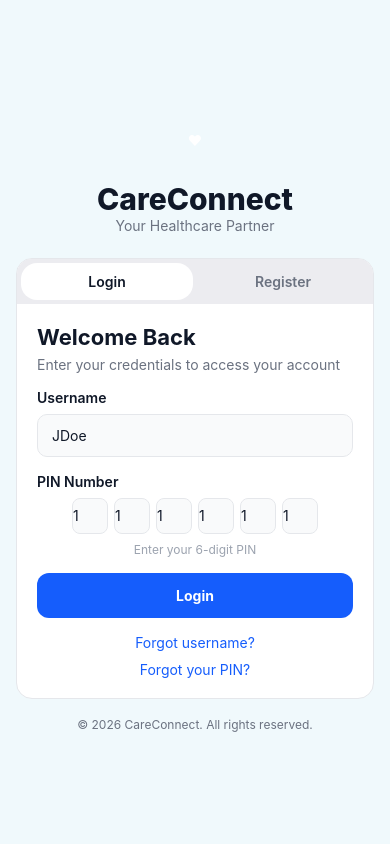
it: Index (Login Screen) › shows error if PIN is incomplete
Clear the field named "PIN digit 1": (90, 516) [72,498,108,534]
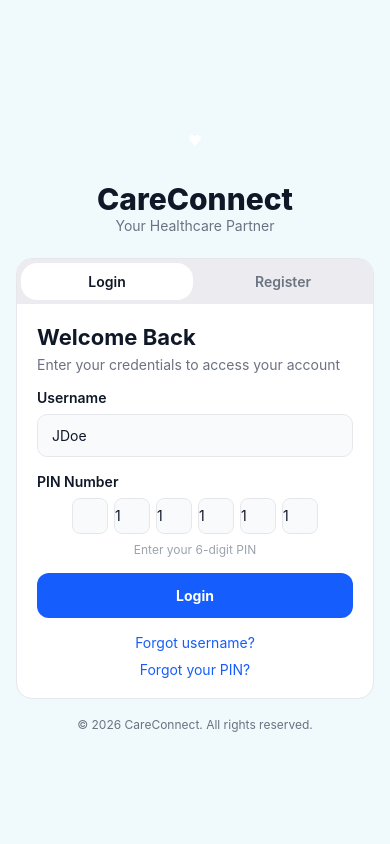
Click the button "Login": (195, 595) [37,572,353,618]
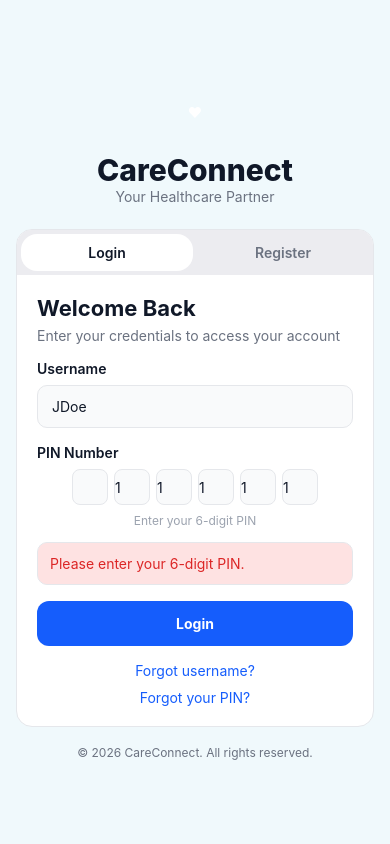
Expected: the text "Please enter your 6-digit PIN." is shown, [50,555,245,572]
